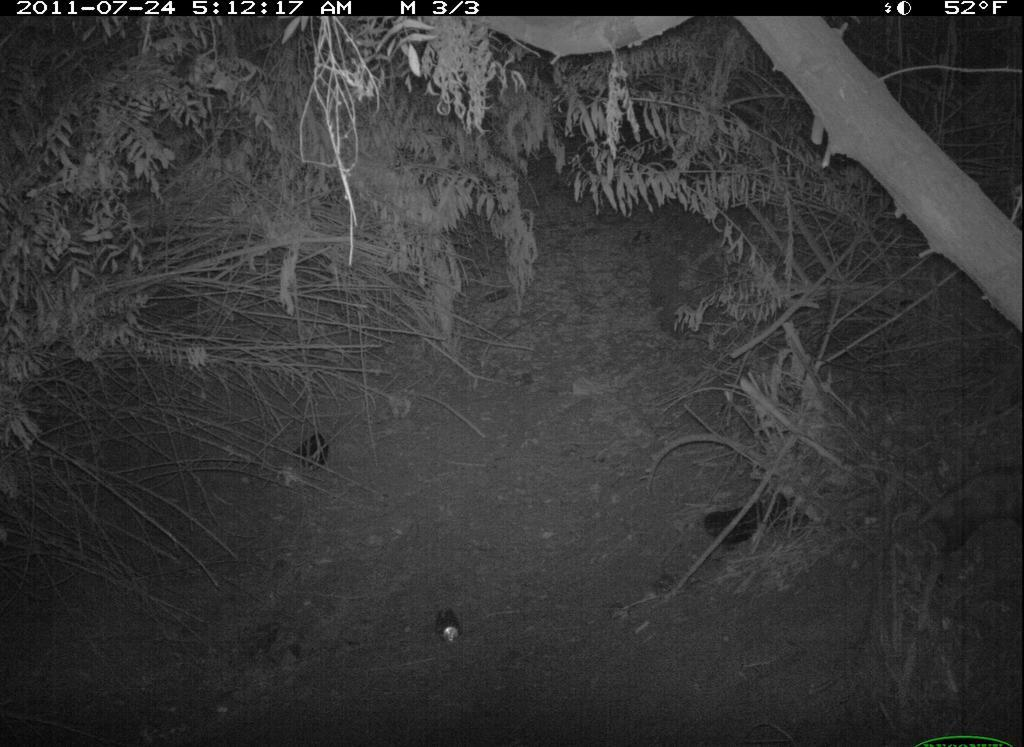opossum: (884, 449, 1023, 562)
